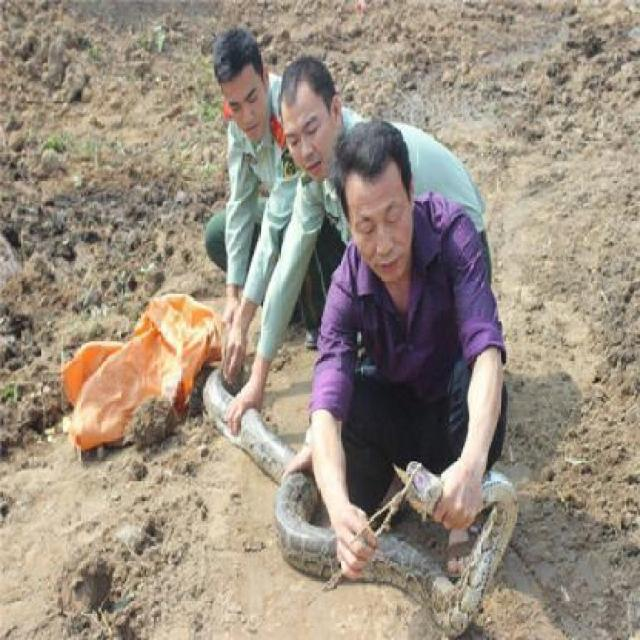face_nomask: (349, 190, 428, 282), (283, 102, 334, 178), (223, 74, 271, 138)
hand_noglove: (335, 508, 377, 578), (434, 466, 478, 531), (225, 380, 266, 432), (222, 329, 248, 383), (282, 446, 312, 479), (220, 297, 238, 329)
head_nohelmet: (338, 117, 409, 188), (270, 63, 338, 109), (205, 45, 269, 86)
person: (298, 123, 550, 603), (192, 8, 306, 317)
